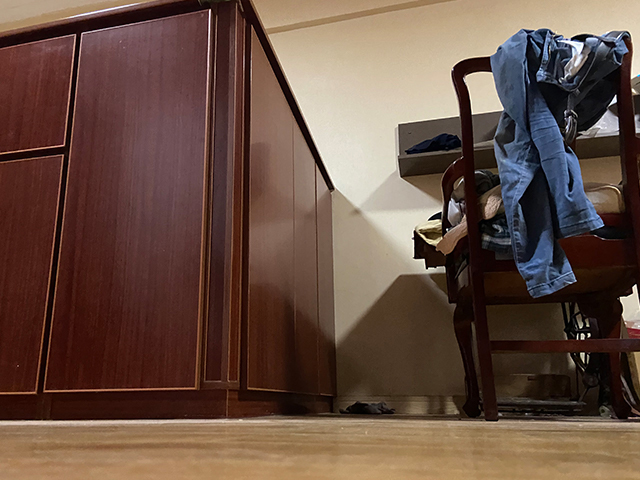cabinet: (1, 1, 336, 421)
socks: (338, 400, 397, 415)
stool: (439, 31, 640, 422)
